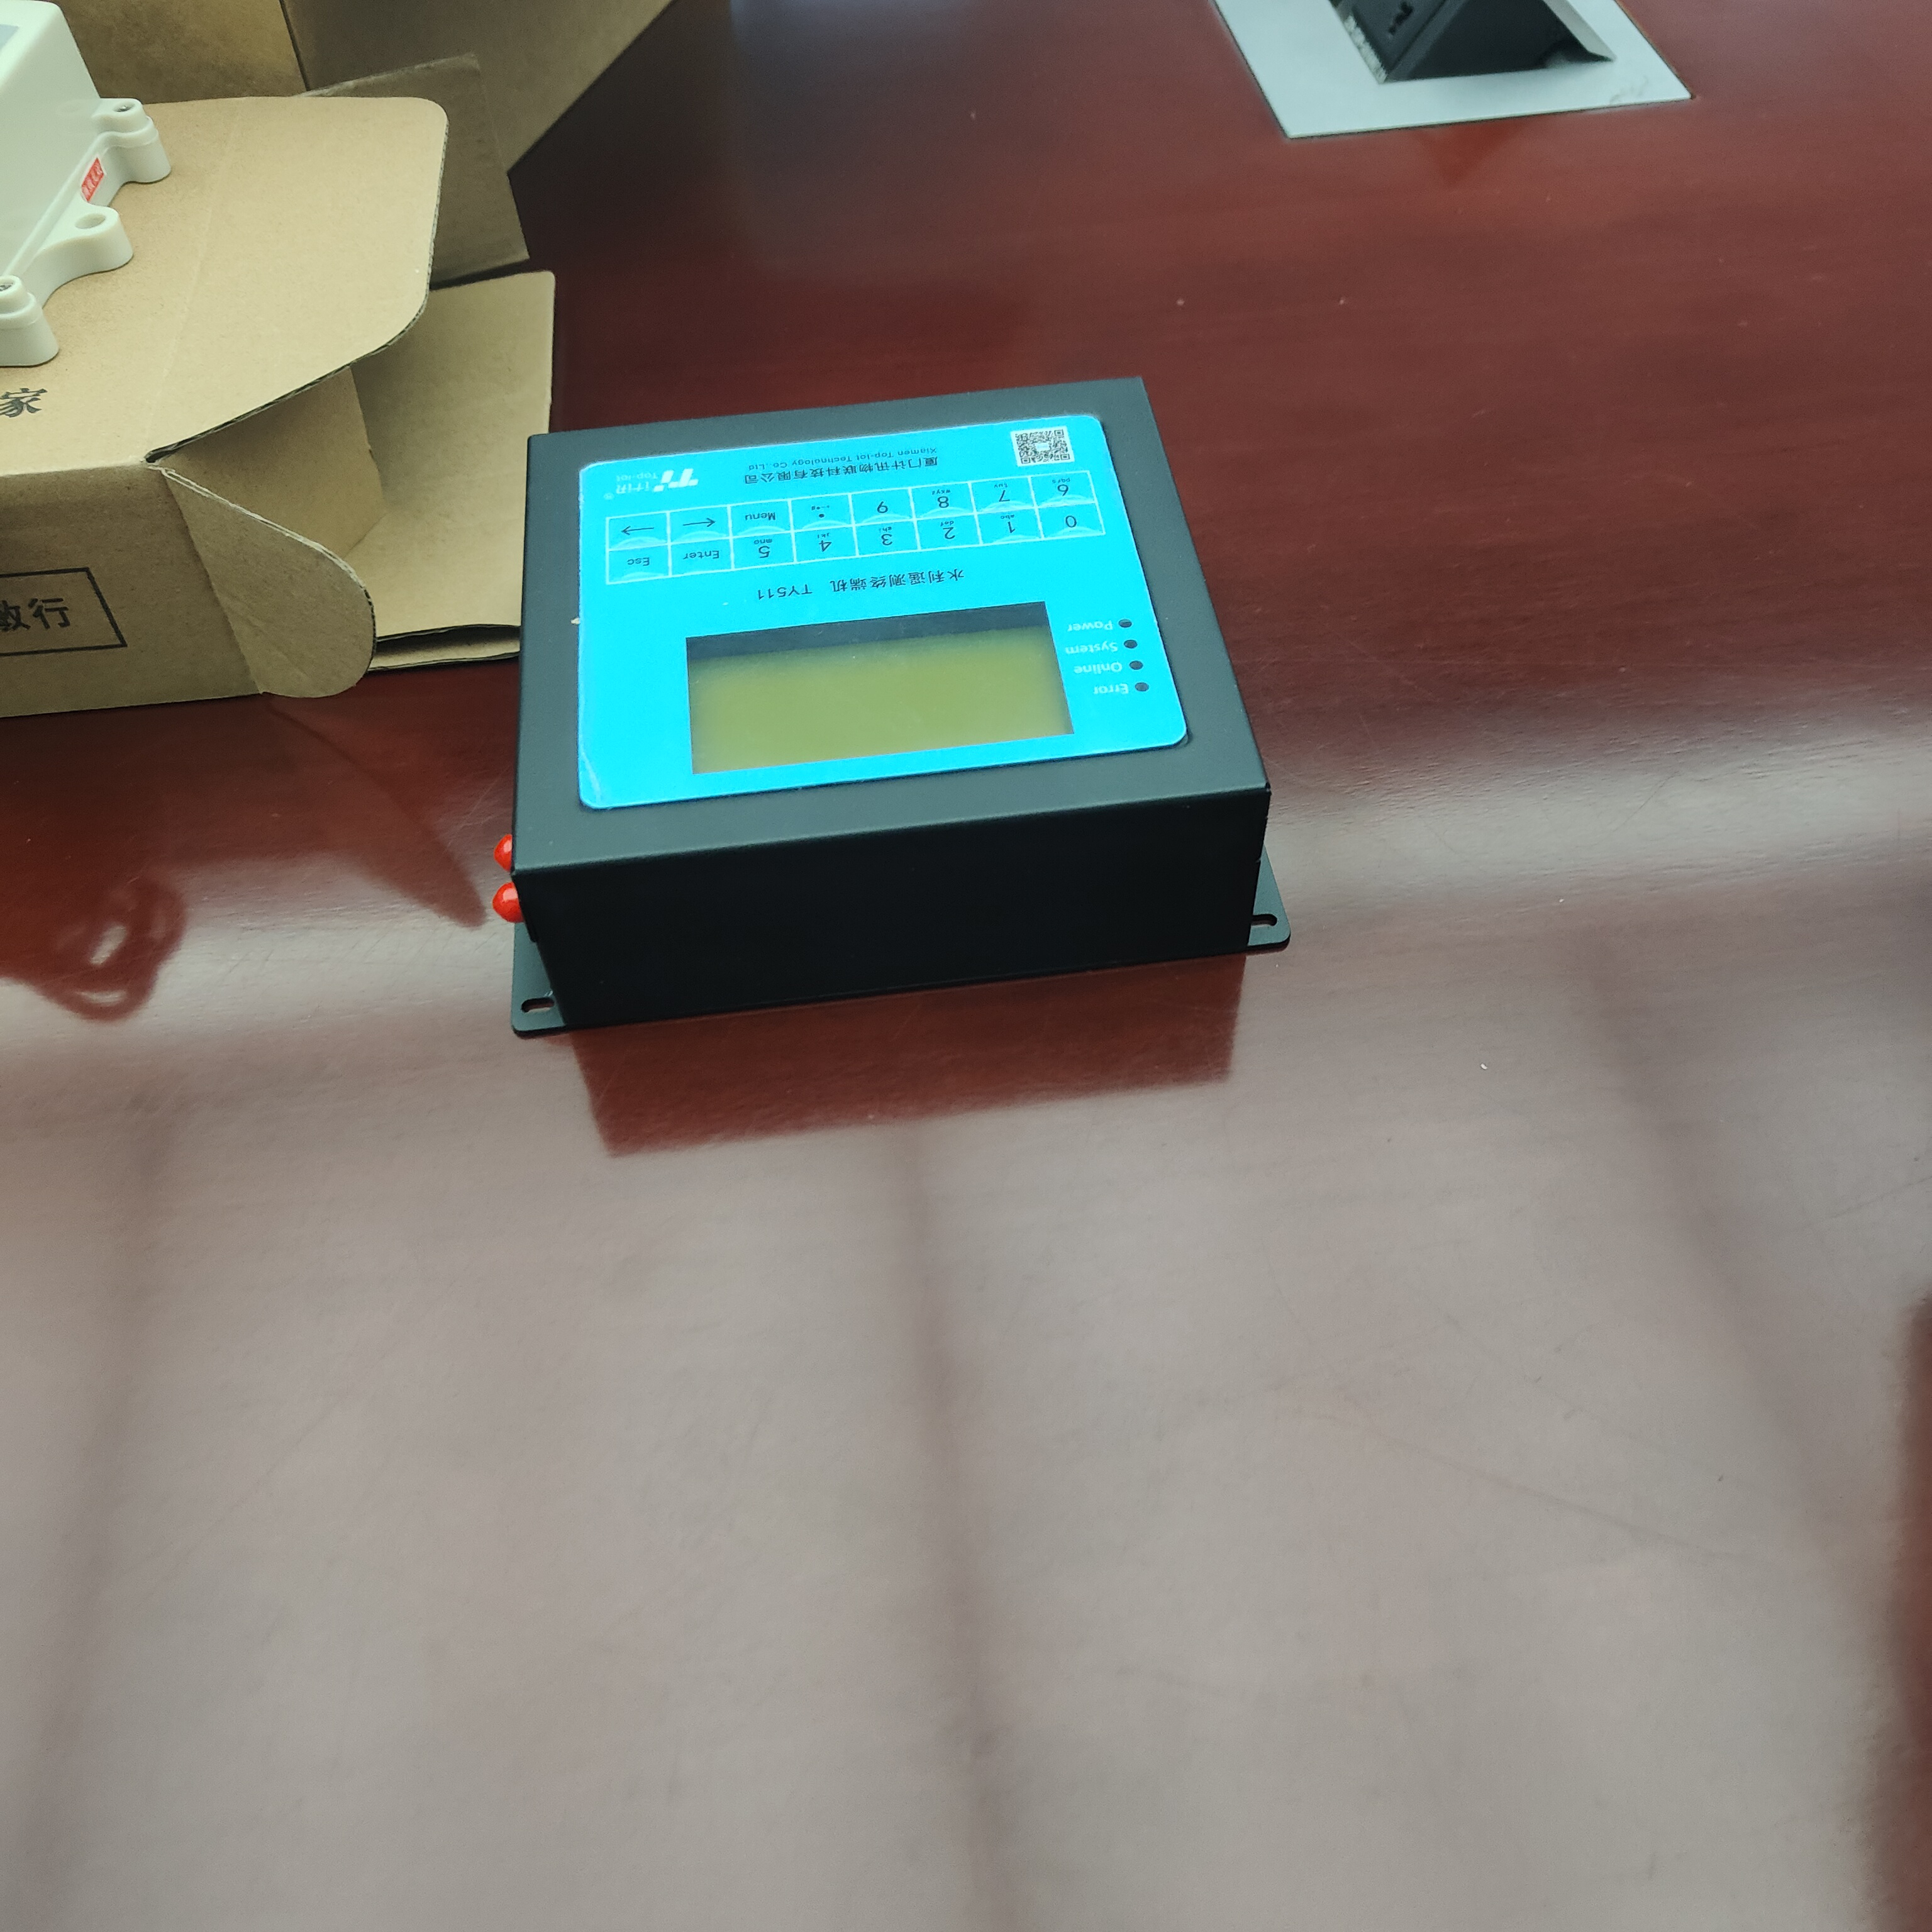slyczd: (508, 372, 1292, 1040)
